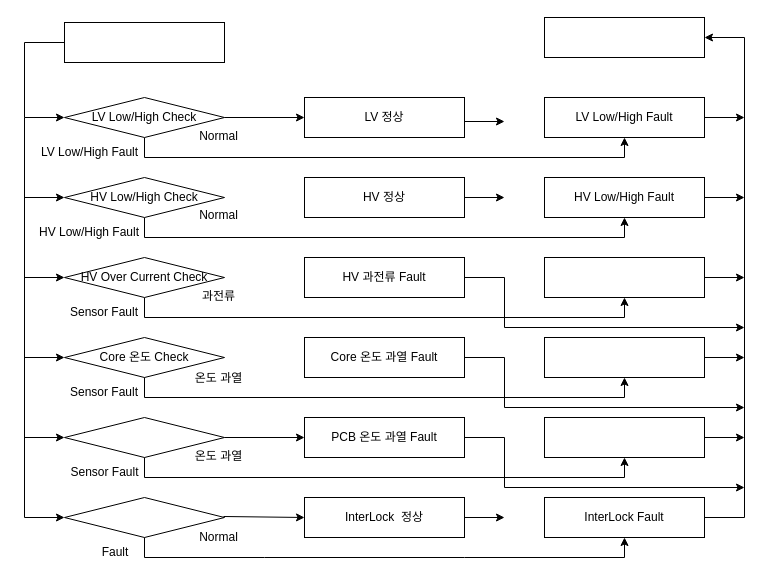
Some shapes in this 770 by 585 pixel diagram are drawn without their labels. The shapes that lost their labels are listed below. From the top down, each one's box as (x1, y1, x2, y2) in pixels, then its label:
(64, 22, 224, 62): 고장 진단 로직 진입
(544, 16, 704, 58): 작동 정지 후 기본 로직 수행
(544, 256, 704, 298): HV 전류 센서 Fault
(544, 336, 704, 378): Core 온도 센서 Fault
(64, 416, 224, 458): PCB 온도 Check
(544, 416, 704, 458): PCB 온도 센서 Fault
(64, 496, 224, 538): InterLock Check
